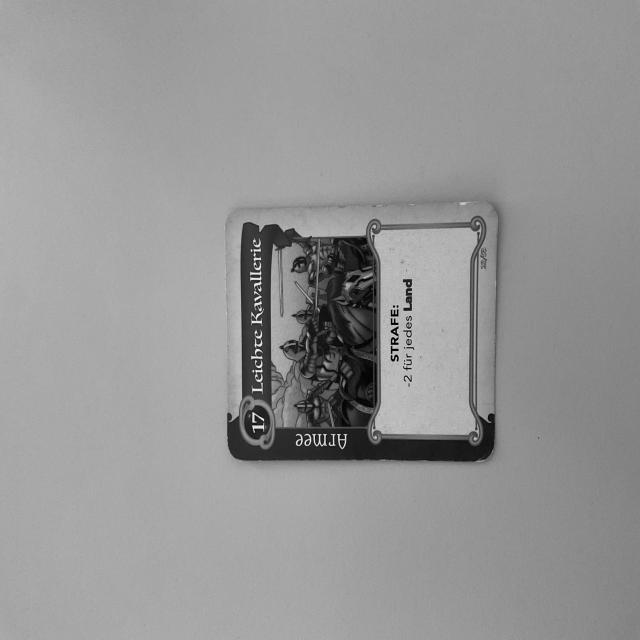Light Cavalry: (217, 204, 500, 463)
